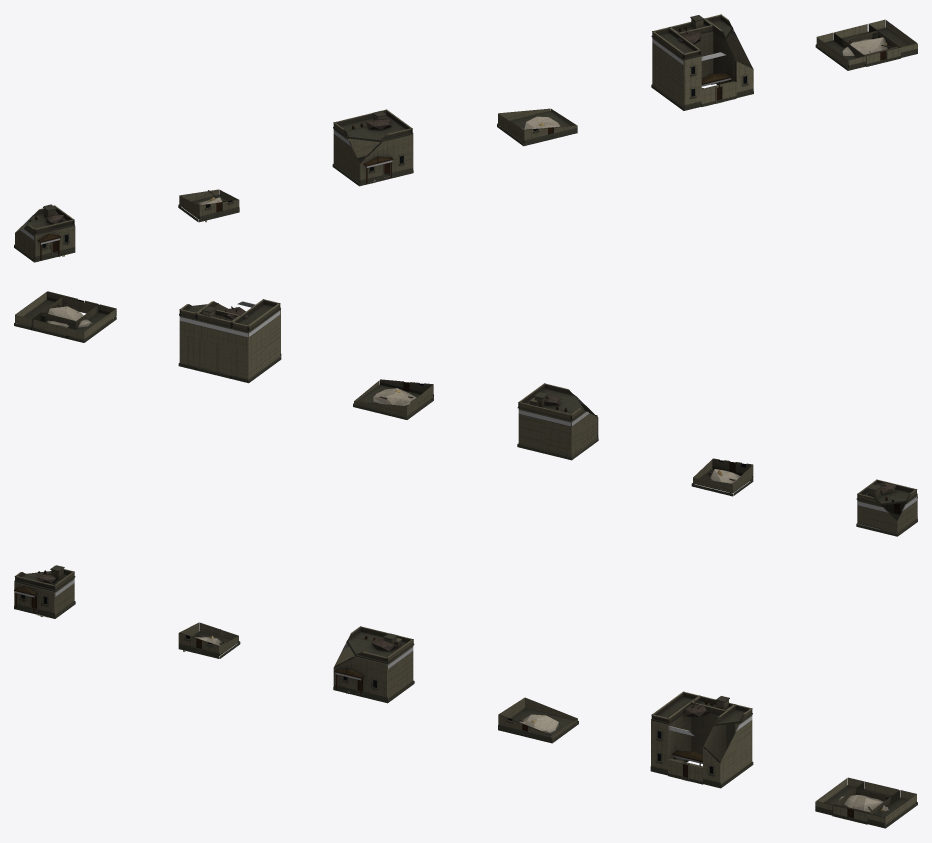
File: classical-eastafrica-houses-damage-4f81761b.glb
3 renders of one model, top to bottom at view 1: azimuth 30°, elevation 25°; view 2: azimuth 150°, elevation 25°; view 3: azimuth 330°, elevation 25°, orthographic.
Parts seen in each view (by area): view 1: LOD0.004, LOD0.002, LOD0.005, LOD0, LOD0.003, LOD0.001; view 2: LOD0.004, LOD0.002, LOD0.005, LOD0, LOD0.003, LOD0.001; view 3: LOD0.004, LOD0.002, LOD0.005, LOD0, LOD0.003, LOD0.001.
Boxes of the visible parts, x1,y1,x2,y2 form: LOD0.004: (651,14,753,110); LOD0.002: (332,109,413,186); LOD0.005: (815,19,917,70); LOD0: (14,204,75,262); LOD0.003: (497,108,577,146); LOD0.001: (178,189,239,222); LOD0.004: (178,299,281,383); LOD0.002: (517,383,598,460); LOD0.005: (14,291,116,342); LOD0: (856,479,917,536); LOD0.003: (353,379,433,419); LOD0.001: (691,458,753,496); LOD0.004: (650,691,753,788); LOD0.002: (333,626,414,703); LOD0.005: (815,777,917,828); LOD0: (14,565,75,618); LOD0.003: (498,697,578,743); LOD0.001: (178,622,240,658).
Size of what is drawn, in the model's own units: 16.02 by 1.08 by 1.05.
2 materials, 2 textured.
